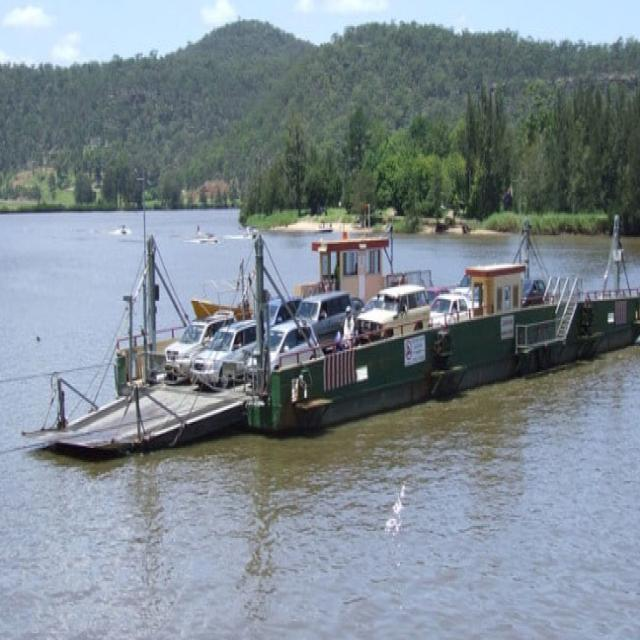cargoship: (112, 172, 640, 439)
